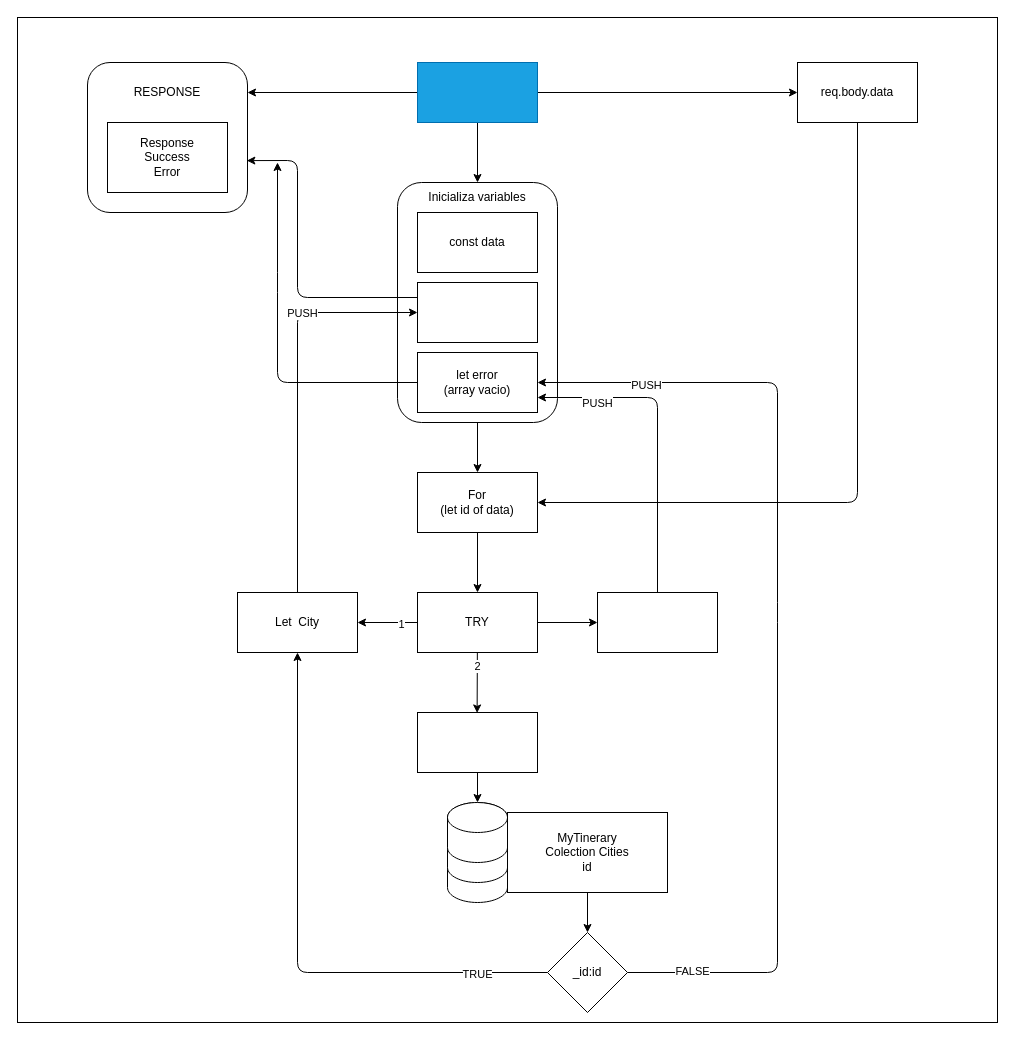
The diagram is 1015 pixels wide and 1040 high, and some of its shapes have lost their labels. The centre of each missing label's shape, as x and y in pixels:
"CATCH" goes at (x=657, y=622).
"let citiesDelete (array vacio)" goes at (x=477, y=312).
"Llamado al controlador DeleteManyCities" goes at (x=477, y=92).
"Model Cities" goes at (x=477, y=742).
